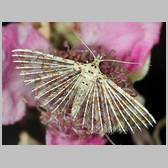Alucitidae: (7, 31, 155, 134)
moth: (9, 29, 157, 132)
